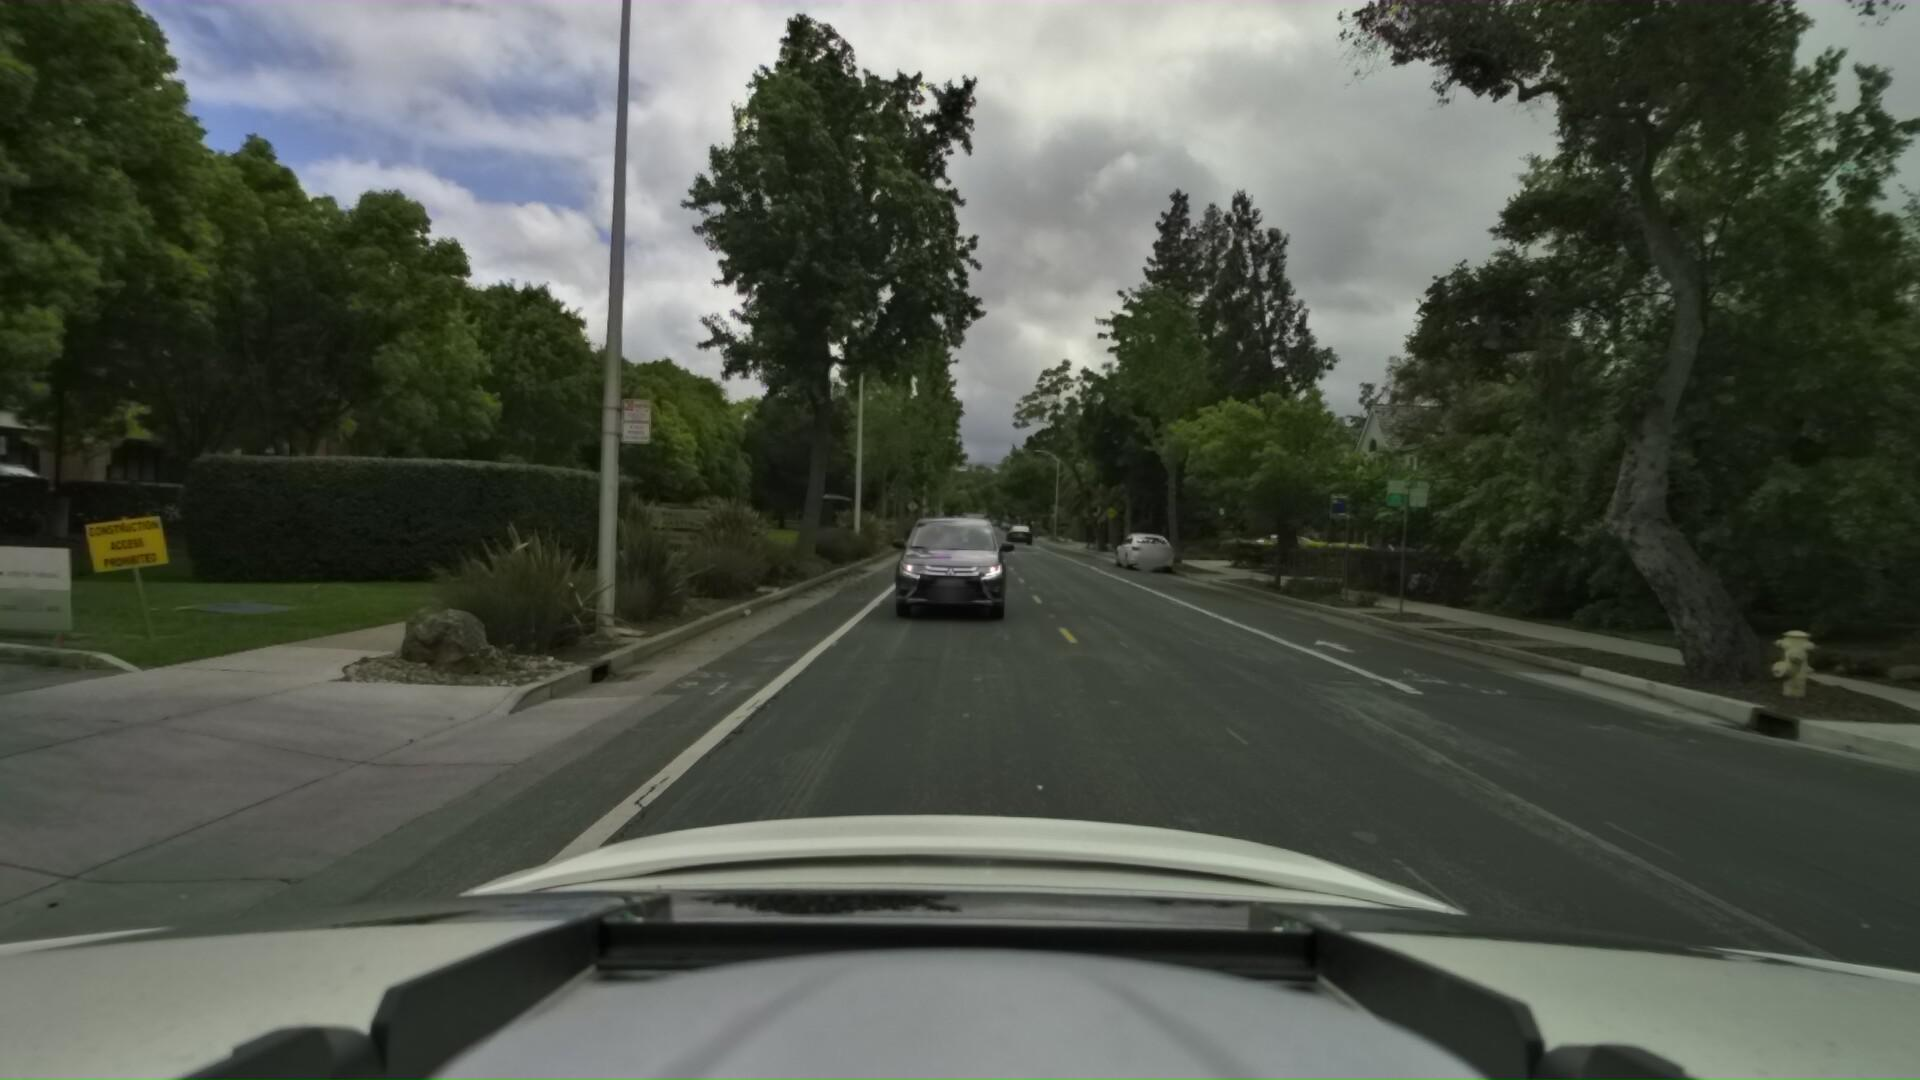car: (884, 501, 1007, 620), (1109, 526, 1176, 568), (942, 513, 992, 564), (1004, 514, 1033, 541)
